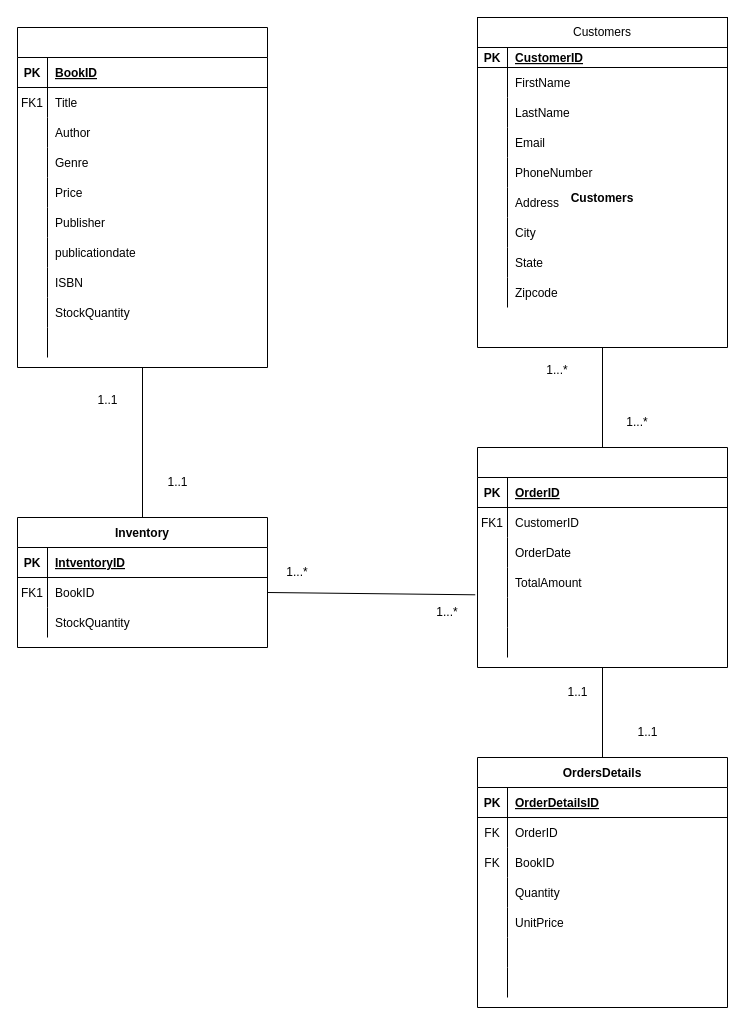
The diagram is 745 pixels wide and 1025 high, and some of its shapes have lost their labels. The box of each missing label's shape, as (x1, y1, x2, y2) in pixels:
Books: (16, 26, 268, 368)
Orders: (476, 446, 728, 668)
